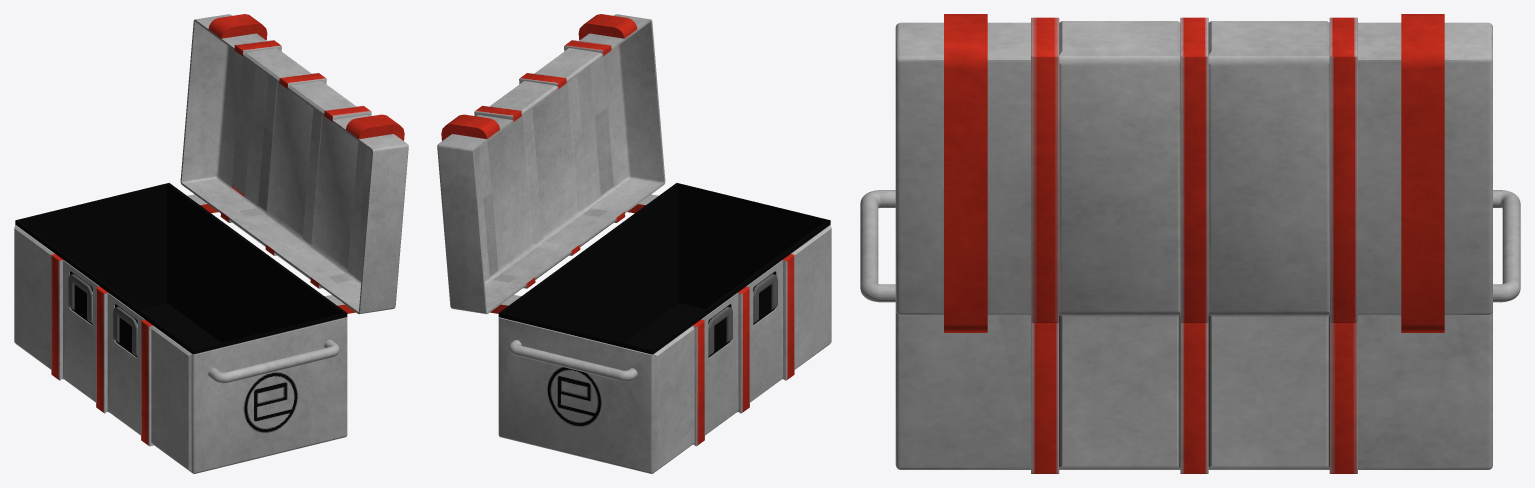
File: crate2.fbx
3 views of the same model, side by side, from view 1: azimuth 30°, elevation 25°; view 2: azimuth 150°, elevation 25°; view 3: azimuth 270°, elevation 25° (orthographic). The views are drawn at different scales.
Visible parts, largest first — view 1: BAKE; view 2: BAKE; view 3: BAKE.
Part boxes in pixels (x1,y1,x2,y2): BAKE: (14,14,408,473); BAKE: (437,14,831,473); BAKE: (860,14,1520,473).
Bounding box in the file's own units: 295 × 357 × 442.
Materials: 1 (1 with a texture image).
